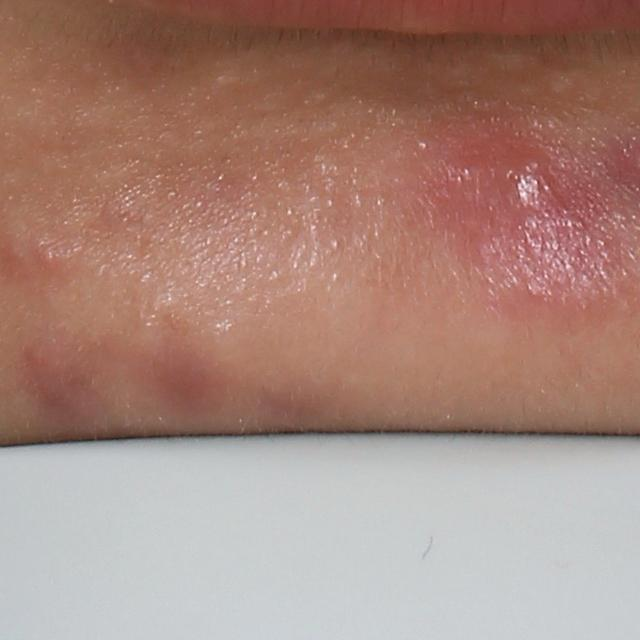hypertrophic_scar: (186, 65, 250, 97), (543, 68, 587, 99), (489, 50, 533, 72)
papule: (498, 147, 552, 210), (35, 232, 71, 272)
